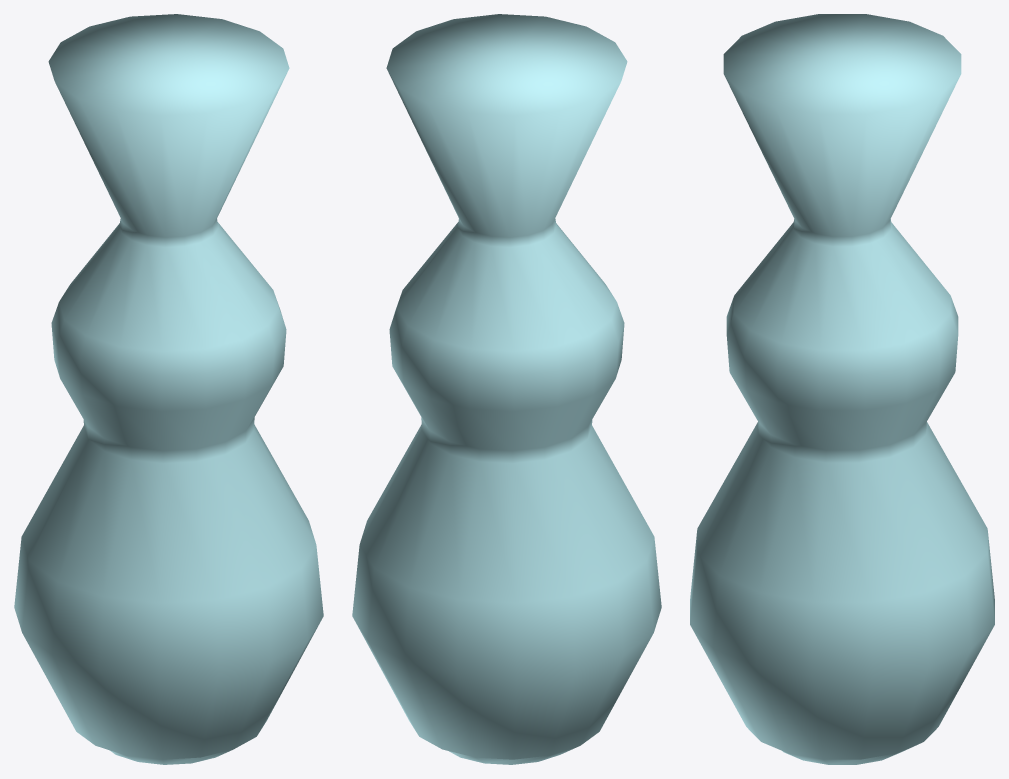
Rendered from vase.fbx.
3 views of the same model, side by side, from view 1: azimuth 30°, elevation 25°; view 2: azimuth 150°, elevation 25°; view 3: azimuth 270°, elevation 25° (orthographic).
Parts seen in each view (by area): view 1: BezierCurve; view 2: BezierCurve; view 3: BezierCurve.
Boxes of the visible parts, x1,y1,x2,y2 form: BezierCurve: (14,14,323,764); BezierCurve: (352,14,661,764); BezierCurve: (690,14,994,764).
Bounding box in the file's own units: 239 × 587 × 239.
